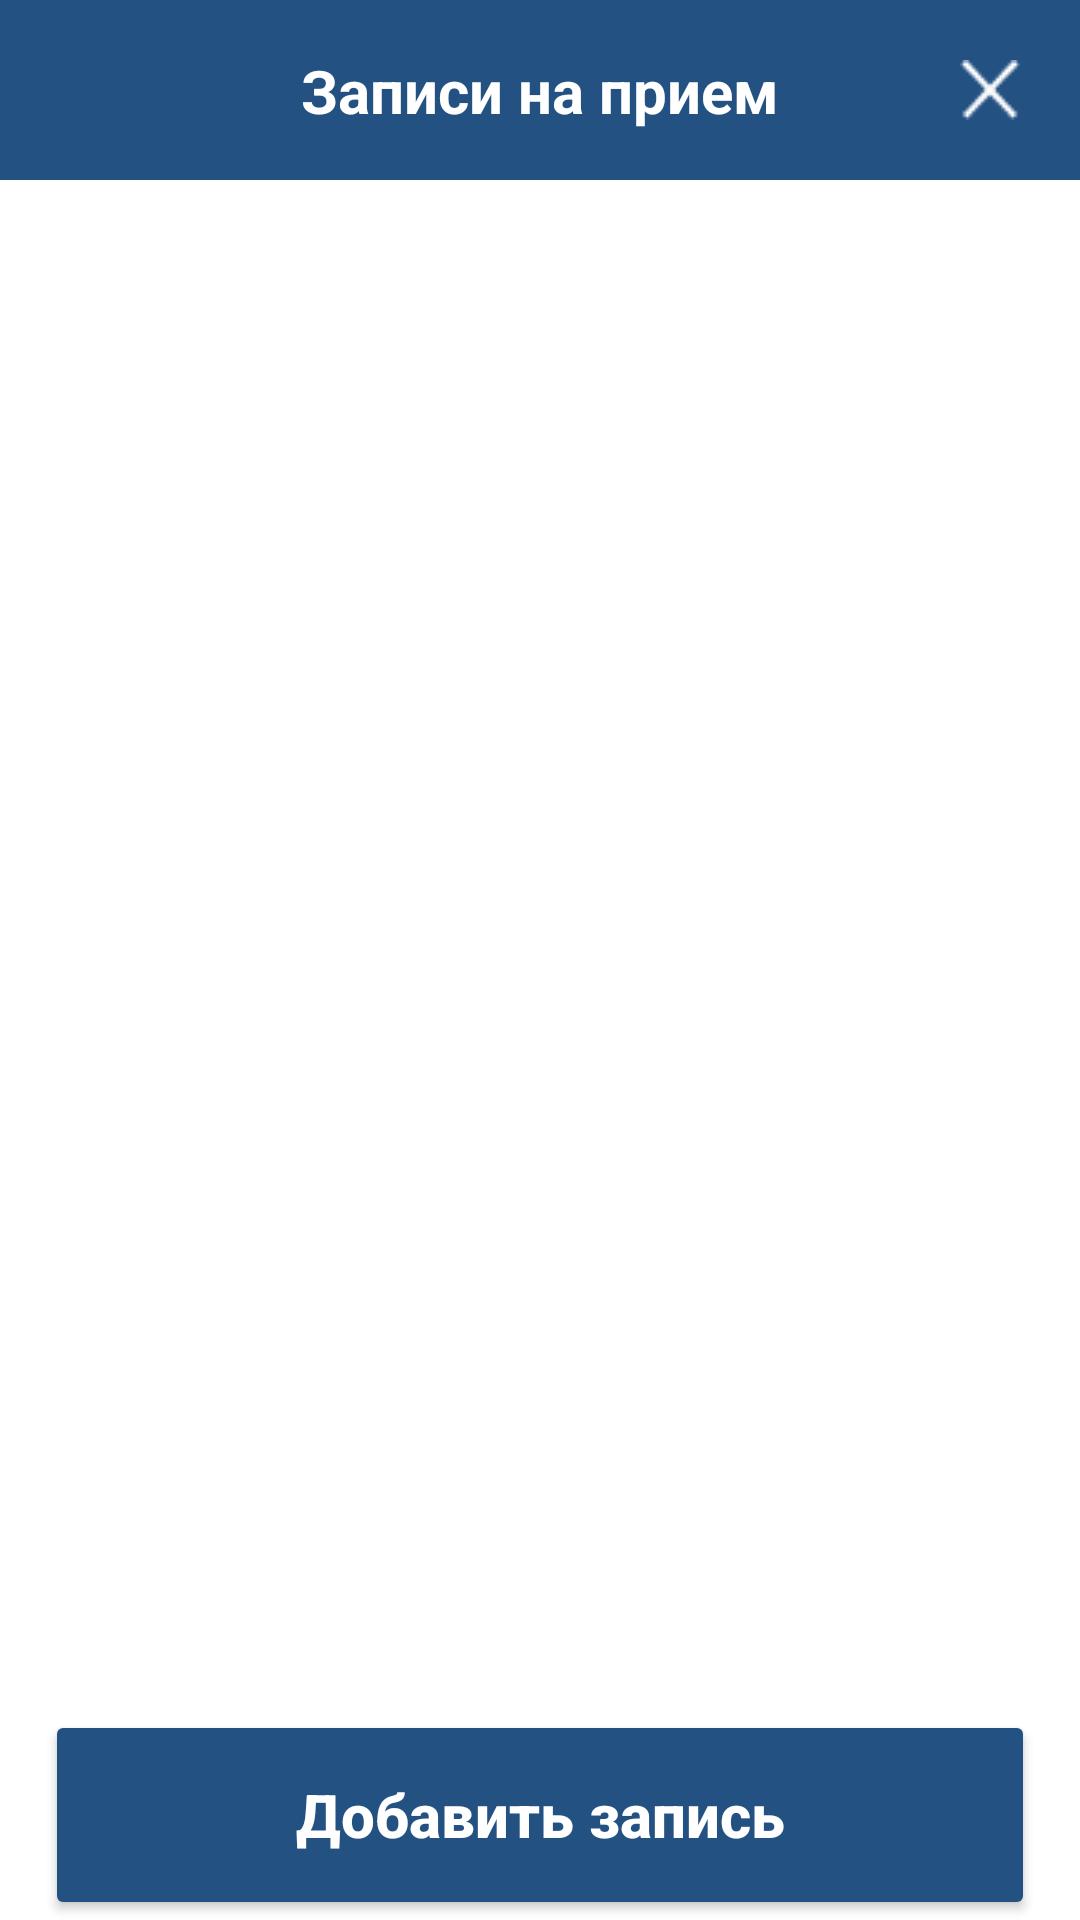

Icon click points for this 1080w x 1920h phone screenshot, format (x,y):
closebutton: (990,90)
